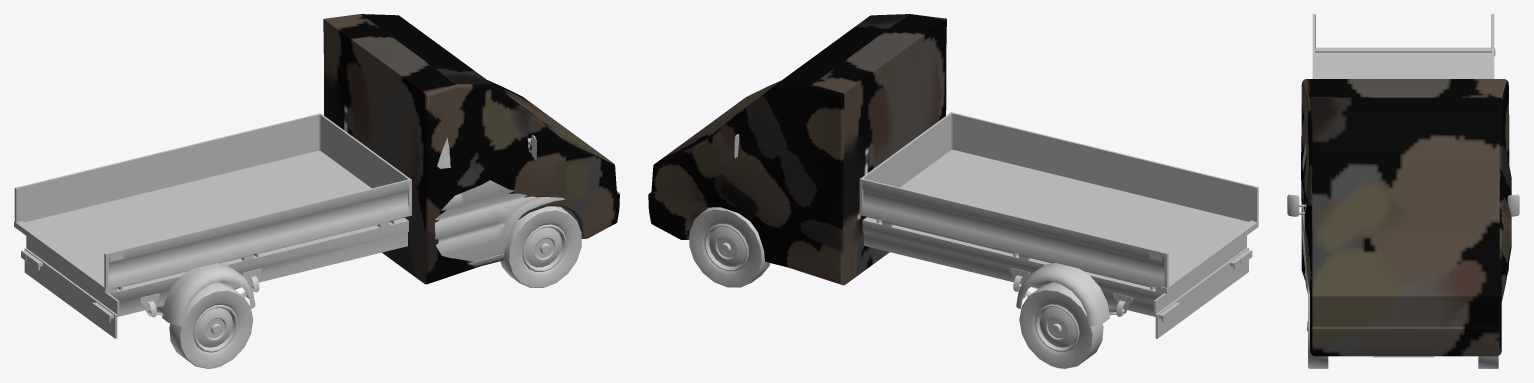
File: LV75VAN.fbx
3 views of the same model, side by side, from view 1: azimuth 30°, elevation 25°; view 2: azimuth 150°, elevation 25°; view 3: azimuth 270°, elevation 25° (orthographic).
Parts seen in each view (by area): view 1: WHITE_BODY, polySurface1; view 2: WHITE_BODY, polySurface1; view 3: polySurface1, WHITE_BODY.
Boxes of the visible parts, left/top/right/bottom form: WHITE_BODY: left=14, top=113, right=581, bottom=368; polySurface1: left=323, top=14, right=619, bottom=284; WHITE_BODY: left=689, top=112, right=1258, bottom=368; polySurface1: left=648, top=14, right=946, bottom=285; polySurface1: left=1301, top=79, right=1511, bottom=356; WHITE_BODY: left=1287, top=14, right=1519, bottom=368.
Bounding box in the file's own units: 2262 × 952 × 886.
